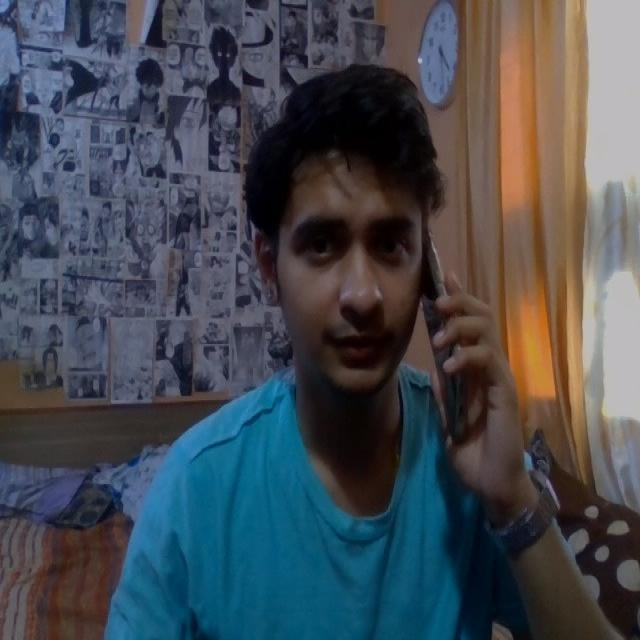oncall: (228, 49, 550, 507)
phone: (402, 228, 487, 446)
